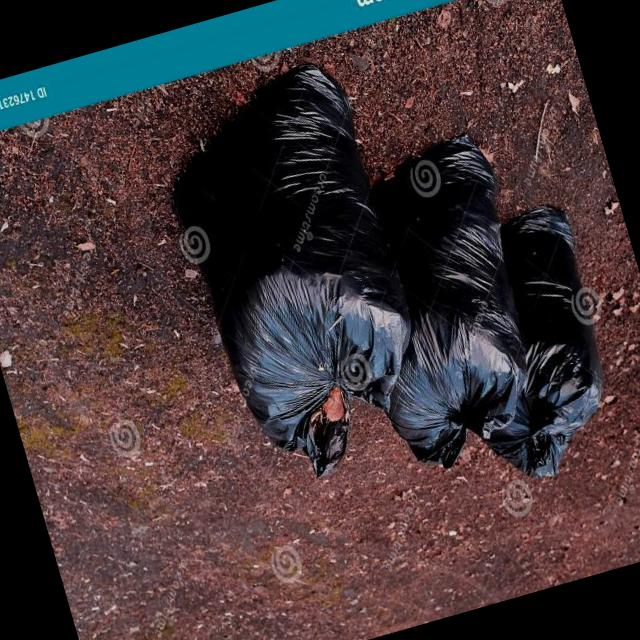high trash: (174, 65, 602, 476)
